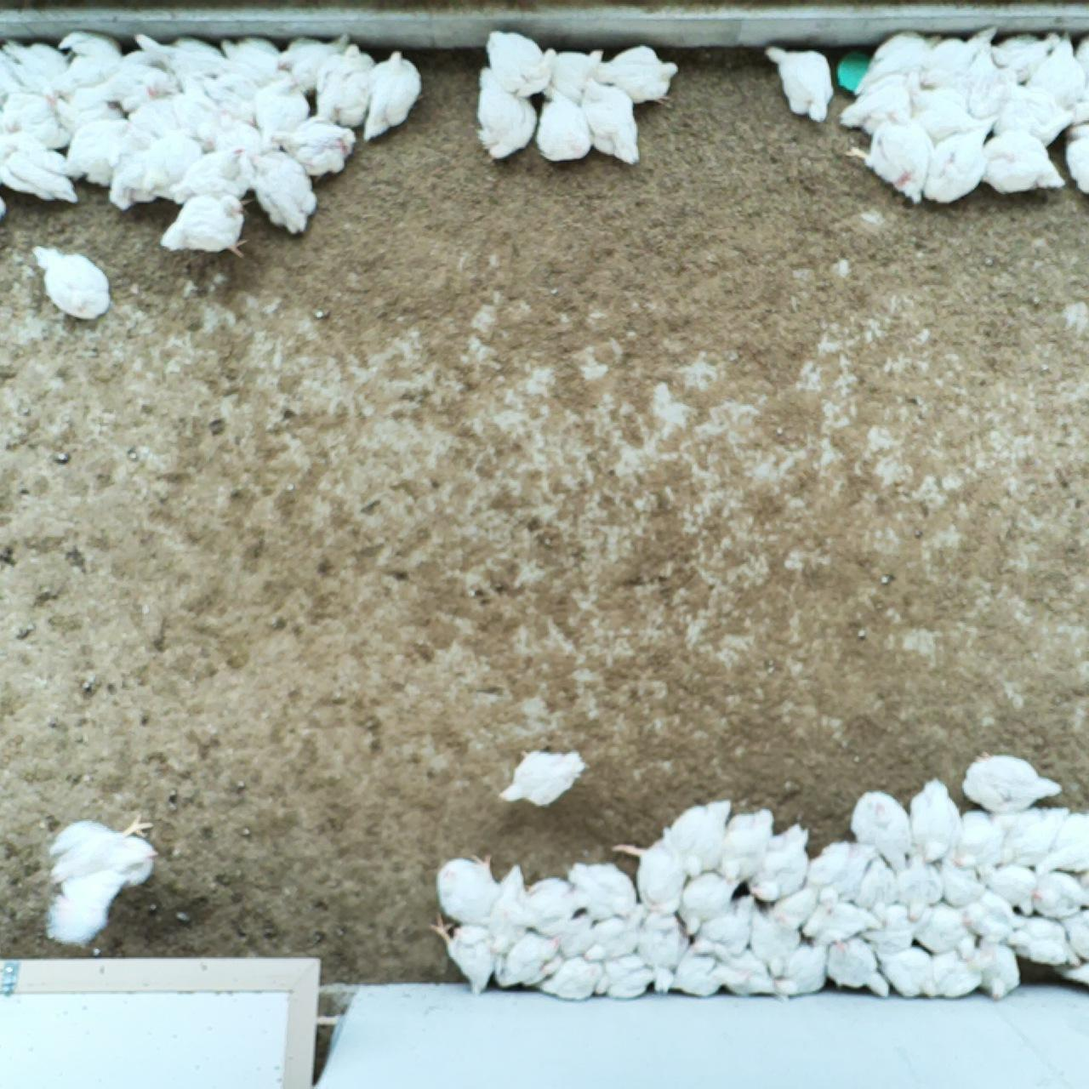chicken: (43, 812, 156, 949), (845, 106, 928, 203), (150, 141, 258, 213), (112, 129, 212, 205), (234, 144, 316, 232), (157, 186, 249, 263), (973, 125, 1068, 198), (469, 65, 542, 156), (916, 115, 988, 206), (573, 76, 644, 168), (358, 45, 426, 141), (611, 832, 687, 917), (311, 38, 379, 133), (29, 240, 113, 316), (62, 116, 147, 191), (965, 751, 1061, 814), (0, 125, 78, 202), (426, 913, 502, 992), (854, 25, 941, 91), (900, 69, 983, 138), (762, 43, 835, 120), (497, 746, 588, 807), (600, 41, 679, 110), (530, 78, 594, 162), (277, 119, 363, 181), (484, 24, 557, 96), (853, 786, 912, 873), (922, 25, 1001, 89), (841, 68, 924, 128), (430, 850, 498, 923), (987, 86, 1071, 145), (670, 800, 731, 881), (47, 30, 119, 98), (245, 67, 312, 140), (907, 777, 962, 864), (750, 825, 812, 902), (999, 804, 1069, 872), (1023, 34, 1089, 106), (280, 34, 355, 97), (98, 56, 175, 117), (719, 806, 775, 889), (483, 860, 530, 958), (810, 839, 876, 908), (633, 910, 688, 992), (986, 30, 1062, 89), (125, 91, 214, 141), (129, 32, 221, 80), (892, 842, 947, 922), (826, 935, 892, 1001), (676, 929, 739, 997), (184, 69, 263, 123), (1006, 911, 1077, 971), (676, 867, 737, 936), (565, 860, 635, 919), (520, 876, 592, 933), (41, 84, 121, 135), (0, 32, 65, 94), (0, 87, 68, 144), (926, 944, 993, 1001), (541, 45, 605, 104), (744, 900, 798, 969), (490, 930, 554, 987), (803, 896, 881, 941), (959, 885, 1016, 945), (925, 854, 989, 907), (878, 939, 936, 997), (1025, 867, 1089, 919), (970, 940, 1022, 1003), (541, 952, 603, 1004), (946, 806, 998, 867), (773, 865, 824, 927), (726, 941, 780, 998), (776, 942, 828, 1001), (218, 32, 280, 81), (1046, 802, 1089, 872), (856, 849, 900, 917), (912, 901, 975, 948), (981, 863, 1038, 913), (583, 911, 642, 956), (864, 900, 915, 952), (704, 895, 750, 952), (546, 913, 605, 957), (1057, 117, 1089, 197), (1058, 117, 1089, 194), (598, 958, 653, 997), (1056, 909, 1089, 962), (1069, 35, 1089, 97), (1052, 961, 1089, 987), (0, 185, 7, 220)
